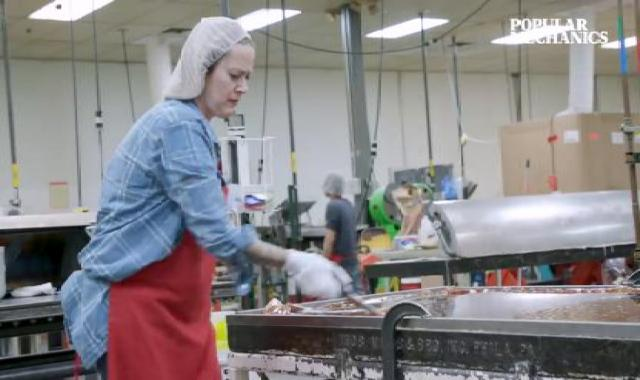hairnet: (155, 16, 258, 102), (318, 169, 353, 200)
